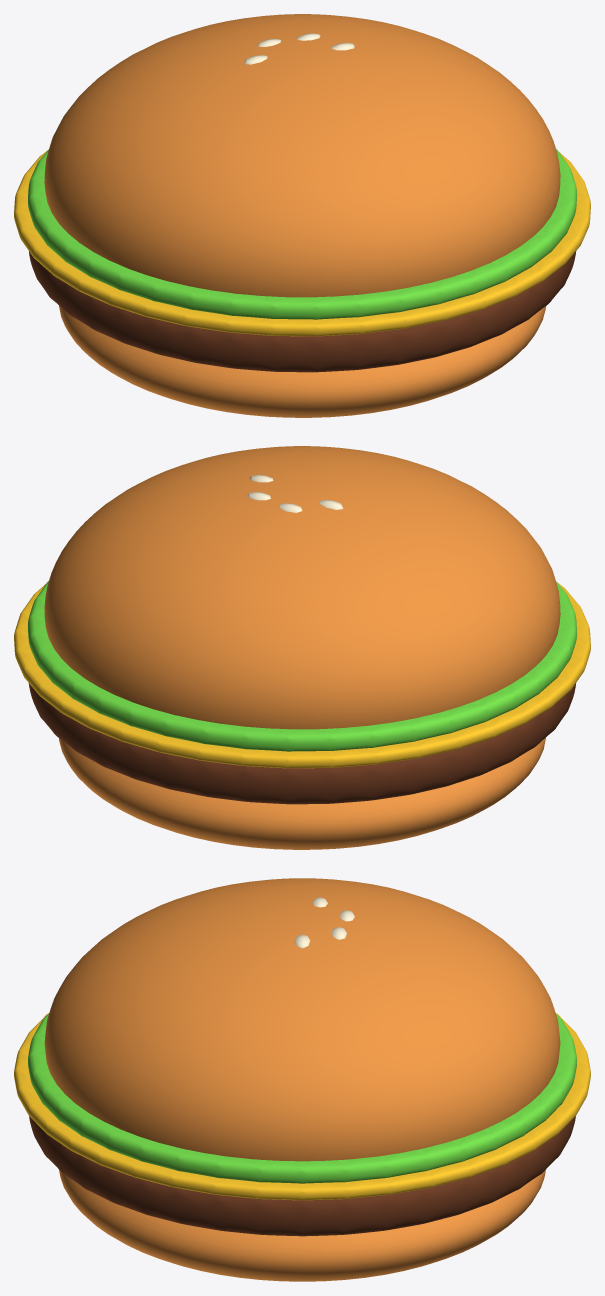
The model's file is Hat_Burger.glb.
3 views of the same model, one above another, from view 1: azimuth 30°, elevation 25°; view 2: azimuth 150°, elevation 25°; view 3: azimuth 270°, elevation 25° (orthographic).
Parts seen in each view (by area): view 1: top, bun, Cylinder, Cylinder.002, Cylinder.001; view 2: top, bun, Cylinder, Cylinder.002, Cylinder.001; view 3: top, bun, Cylinder, Cylinder.002, Cylinder.001.
Part boxes in pixels (x1,y1,x2,y2): top: (44,14,560,297); bun: (59,305,545,417); Cylinder: (29,251,576,372); Cylinder.002: (27,149,577,319); Cylinder.001: (14,150,590,336); top: (44,446,560,729); bun: (59,737,545,849); Cylinder: (28,683,575,804); Cylinder.002: (27,581,577,751); Cylinder.001: (14,582,590,768); top: (44,878,560,1161); bun: (59,1170,545,1281); Cylinder: (29,1116,575,1236); Cylinder.002: (28,1014,576,1183); Cylinder.001: (14,1013,590,1200).
Bounding box in the file's own units: 0.8392 × 0.4898 × 0.8392.
